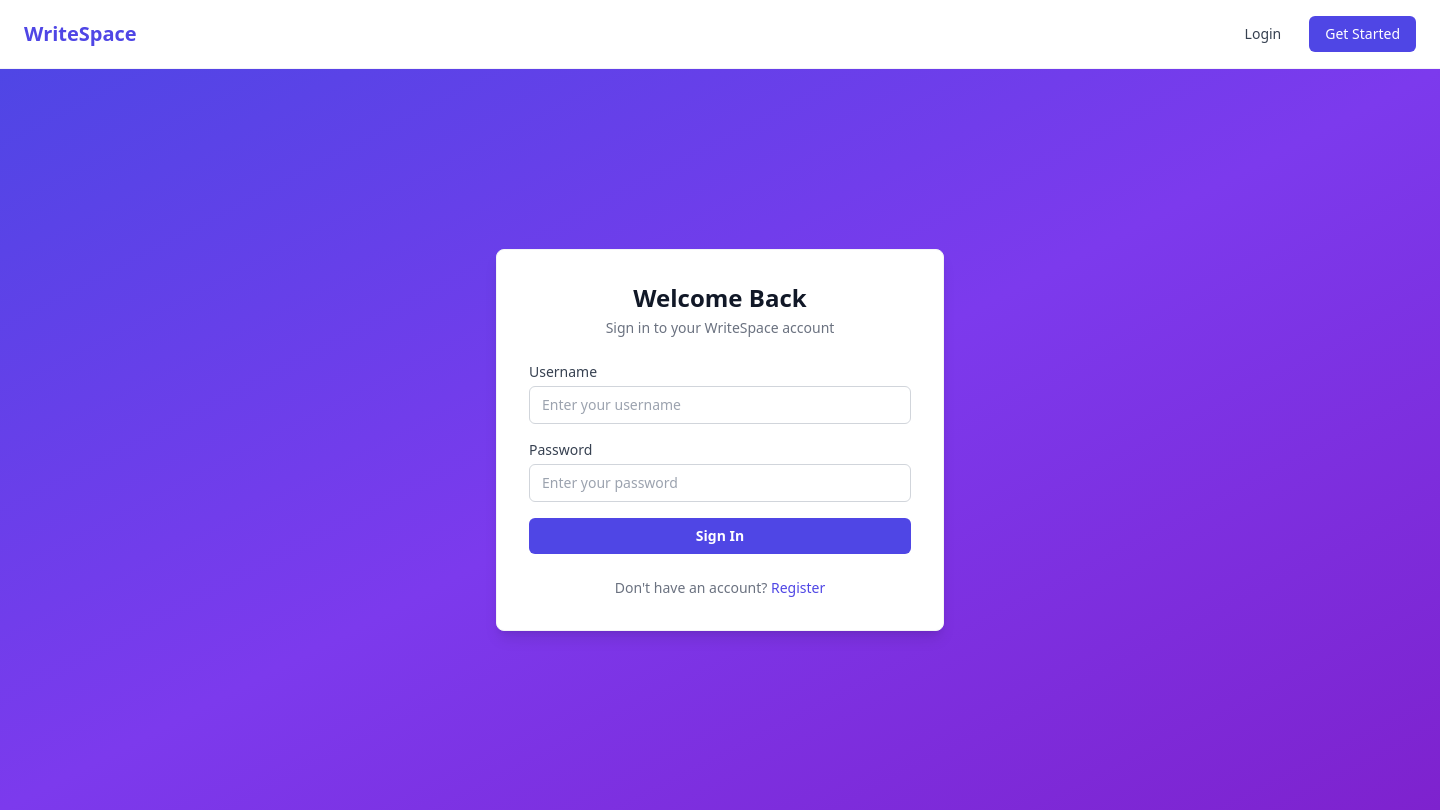
it: LoginPage › validation errors › shows error when both fields are empty
What coordinates should you click on to do the following:
click the button "Sign In"
I would click on:
 (720, 536)
Its box is [529,518,911,554].
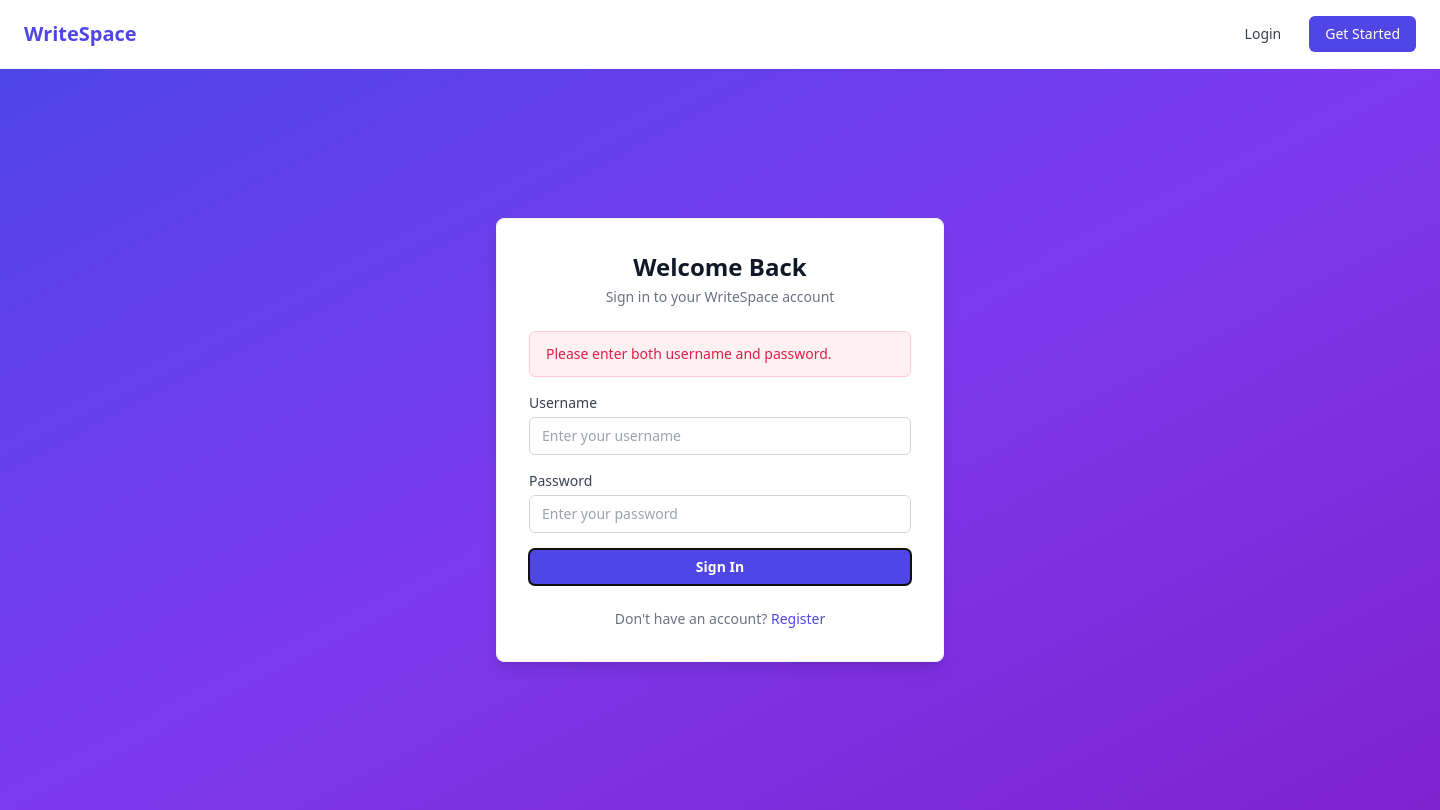
Expected: the text "Please enter both username and password." is shown, [546,344,832,362]
